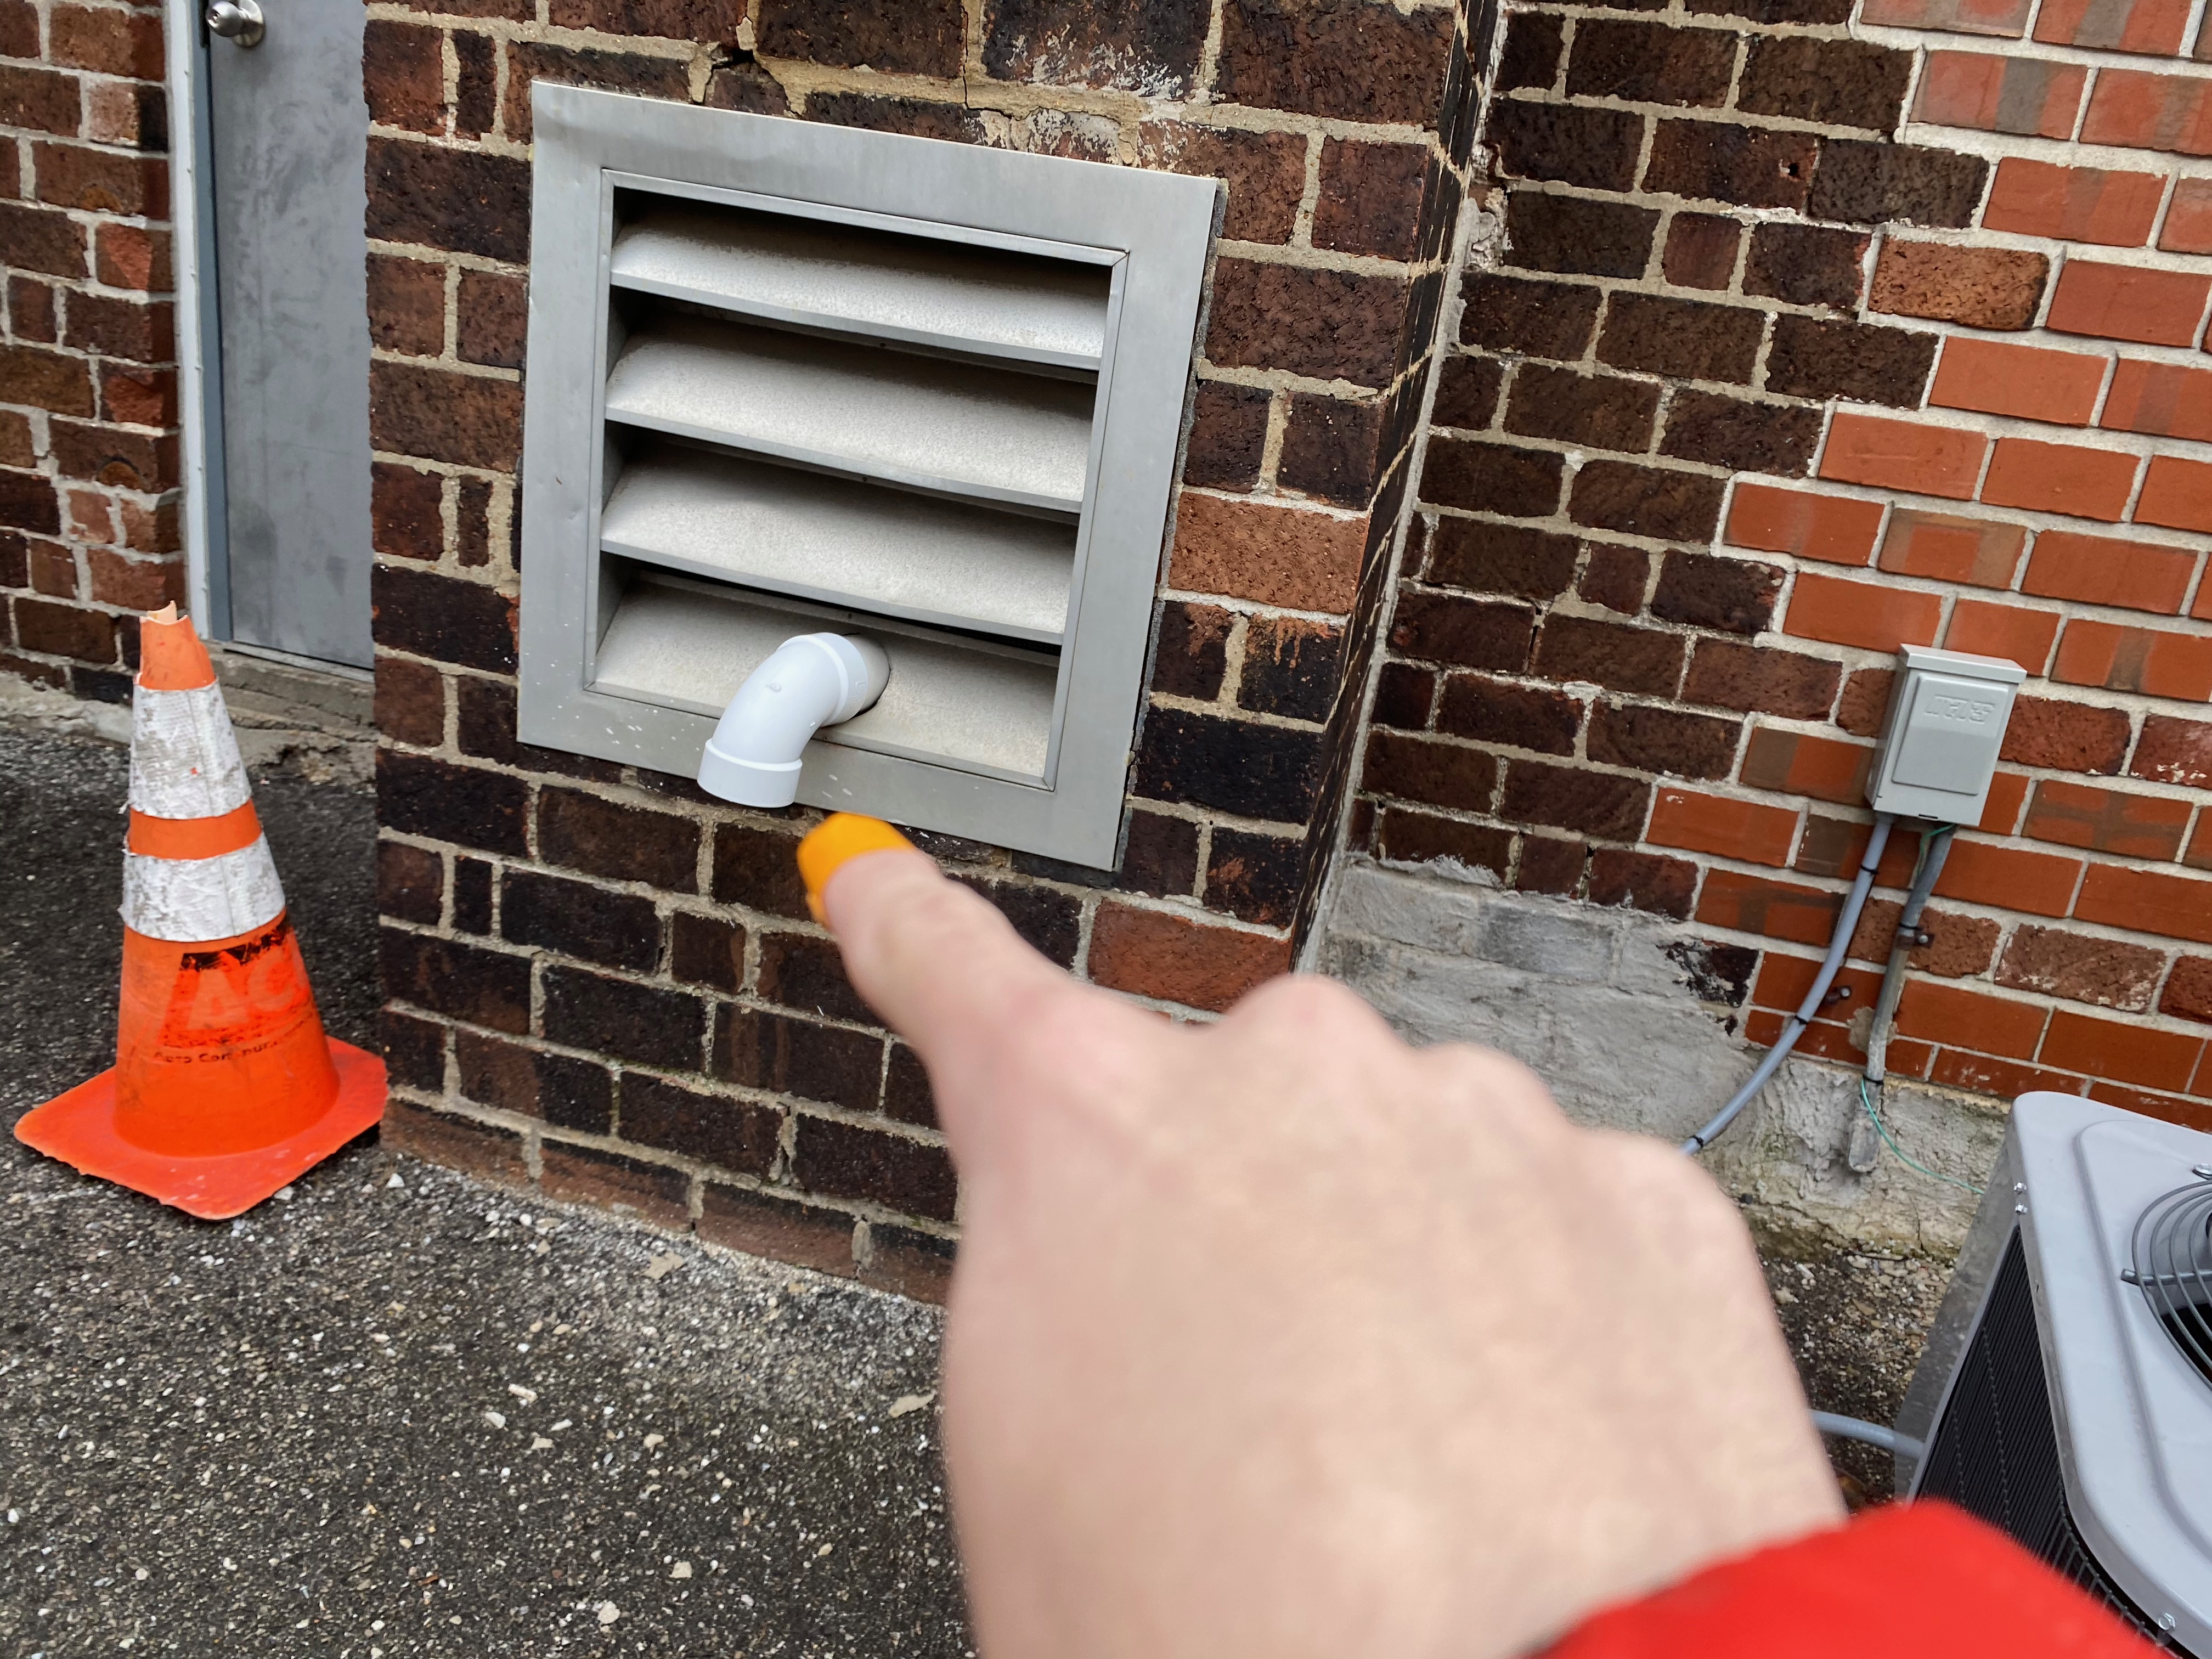fingertip: (772, 803, 960, 934)
